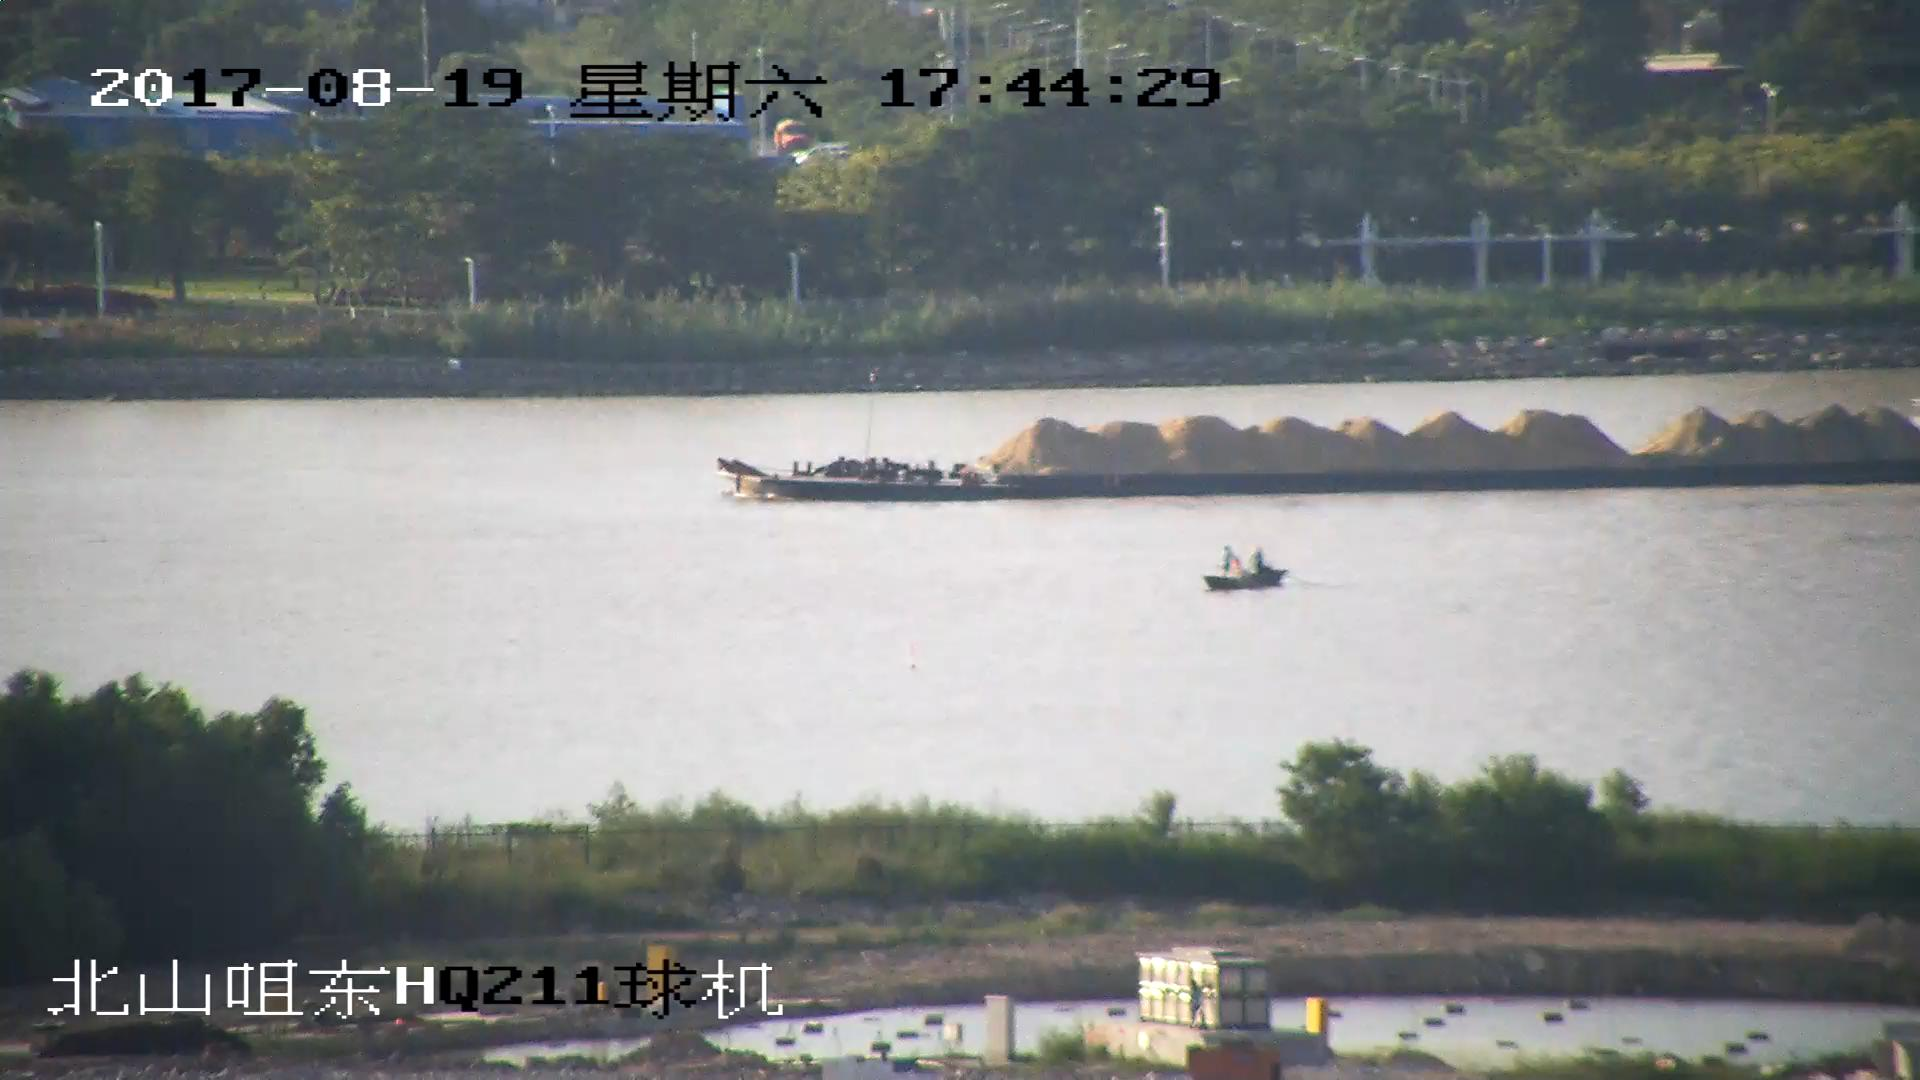fishing boat: (1198, 546, 1290, 592)
ore carrier: (714, 402, 1920, 504)
